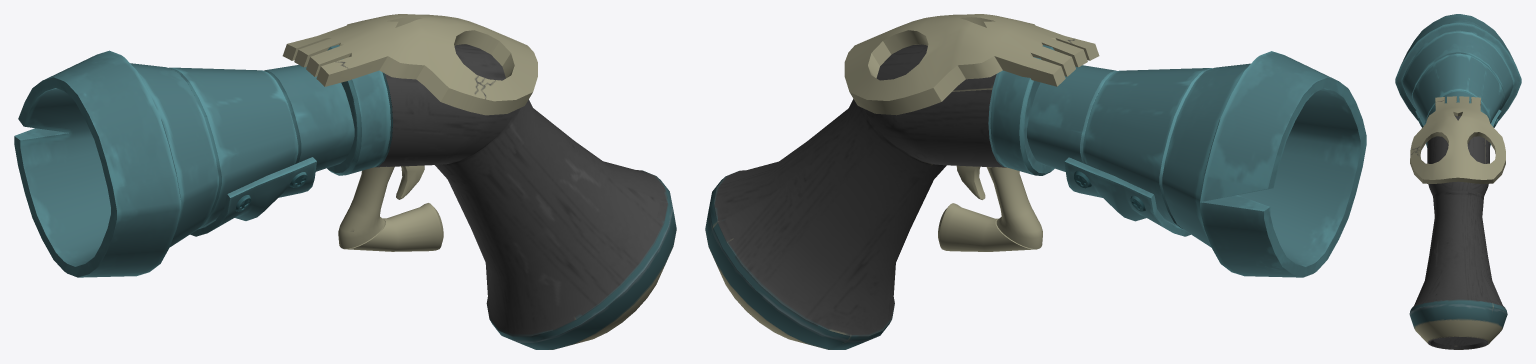
File: FP Pistola Chanel.fbx
The picture shows the model from 3 angles, left to right: view 1: azimuth 30°, elevation 25°; view 2: azimuth 150°, elevation 25°; view 3: azimuth 270°, elevation 25°; orthographic projection. The views are drawn at different scales.
Parts seen in each view (by area): view 1: Cylinder.002, Cylinder, Plane, Cylinder.001, Cylinder.003, Cylinder.005, Cylinder.004, Cube; view 2: Cylinder.002, Cylinder, Plane, Cylinder.001, Cylinder.003, Cylinder.005, Cylinder.004, Cube; view 3: Cylinder, Cylinder.002, Plane, Cylinder.001, Cylinder.004.
Boxes of the visible parts, box(x1,y1,x2,y2) form: Cylinder.002: box(14, 50, 354, 277); Cylinder: box(435, 99, 676, 349); Plane: box(282, 14, 537, 115); Cylinder.001: box(375, 44, 516, 167); Cylinder.003: box(338, 166, 443, 251); Cylinder.005: box(327, 45, 392, 175); Cylinder.004: box(190, 157, 316, 236); Cube: box(396, 165, 424, 199); Cylinder.002: box(1027, 51, 1366, 277); Cylinder: box(705, 99, 946, 349); Plane: box(844, 14, 1099, 115); Cylinder.001: box(864, 44, 1006, 167); Cylinder.003: box(938, 167, 1042, 251); Cylinder.005: box(988, 45, 1054, 175); Cylinder.004: box(1064, 157, 1190, 236); Cube: box(956, 165, 985, 199); Cylinder: box(1409, 191, 1507, 349); Cylinder.002: box(1395, 14, 1521, 123); Plane: box(1410, 96, 1505, 183); Cylinder.001: box(1427, 115, 1489, 196); Cylinder.004: box(1415, 109, 1501, 126).
Size of the model in its own units: 362 by 224 by 121.
Materials: 2 (2 with a texture image).
